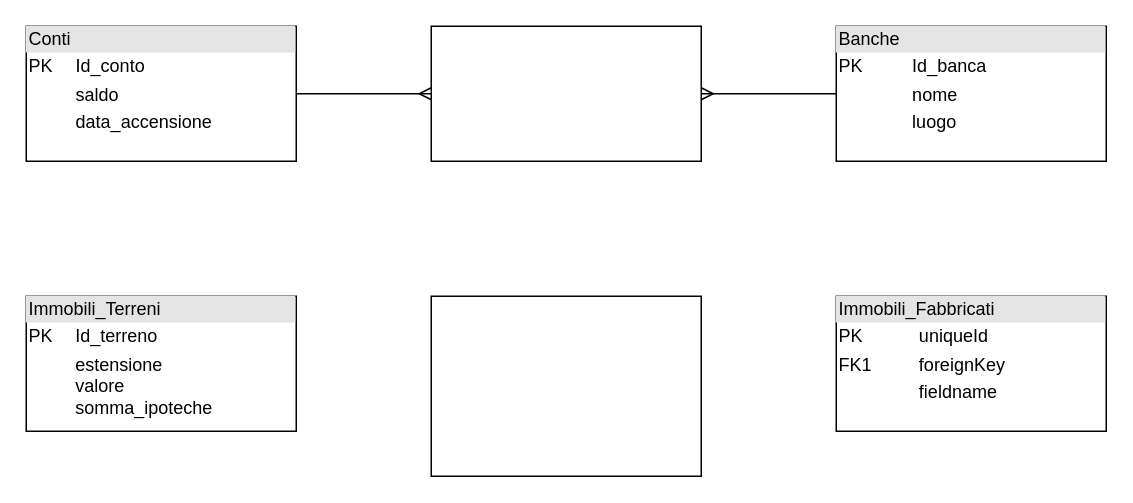
The diagram is 1133 pixels wide and 503 high, and some of its shapes have lost their labels. Each missing label, with the centre of its shape:
Conti_Banche PK Id_conti_banche FK Id_banca Id_conto: (565,93)
Ipoteche PK Id_ipoteca FK importo scadenza Id_banca Id_terreno Id_fabbricato: (565,385)
